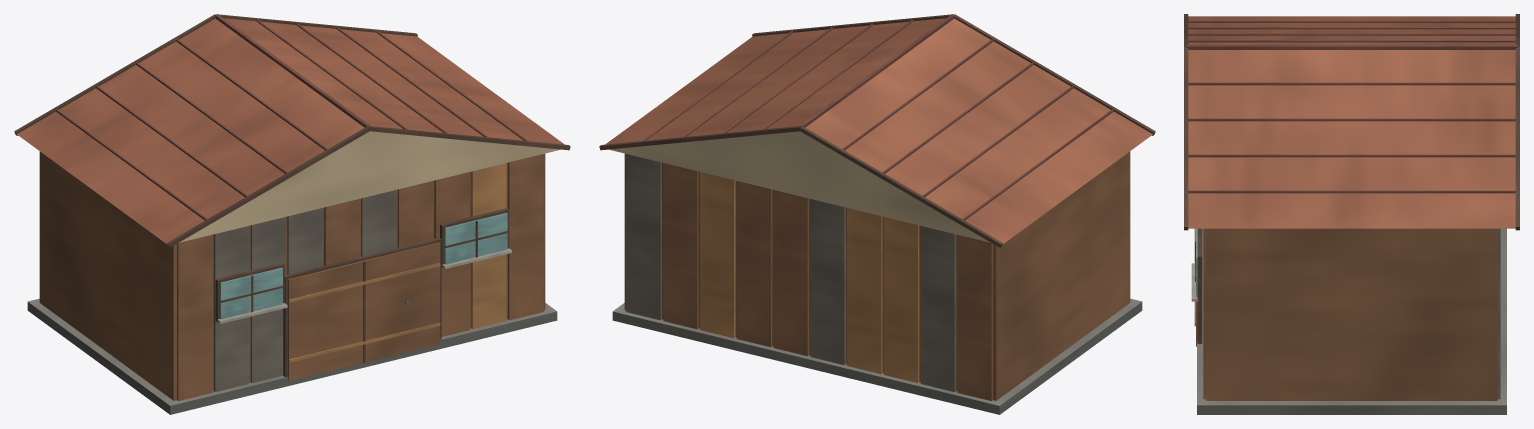
The model's file is barn.fbx.
The picture shows the model from 3 angles, left to right: view 1: azimuth 30°, elevation 25°; view 2: azimuth 150°, elevation 25°; view 3: azimuth 270°, elevation 25°; orthographic projection. The views are drawn at different scales.
Visible parts, largest first — view 1: barn; view 2: barn; view 3: barn.
Boxes of the visible parts, box(x1,y1,x2,y2) form: barn: box(14, 14, 570, 414); barn: box(599, 14, 1155, 414); barn: box(1184, 14, 1519, 414).
Size of the model in its own units: 1200 by 700 by 800.
2 materials, 2 textured.
